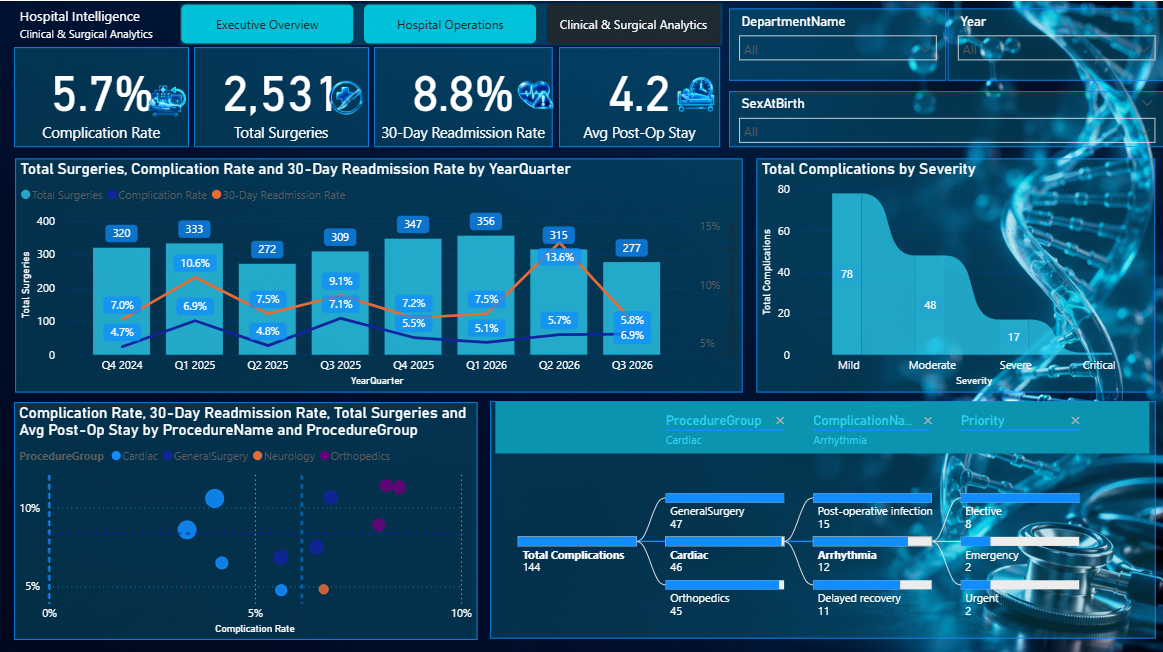

This screenshot's page, from the dashboard's own definition file:
{"tool":"powerbi","page":{"name":"Clinical & Surgical Analytics","canvas":[1280,720],"ordinal":2},"visuals":[{"type":"card","fields":{"Values":["bi FactSurgery.Complication Rate"]},"box":[16.5,50.8,192.1,109.8],"z":0},{"type":"card","fields":{"Values":["bi FactSurgery.Total Surgeries"]},"box":[214.1,50.8,192.1,109.8],"z":1000},{"type":"card","fields":{"Values":["bi FactSurgery.Avg Post-Op Stay"]},"box":[614.8,50.8,177,109.8],"z":2000},{"type":"card","fields":{"Values":["bi FactSurgicalAdmission.30-Day Readmission Rate"]},"box":[411.7,50.8,196.2,109.8],"z":3000},{"type":"pageNavigator","box":[199,2.7,595.5,45.3],"z":4000},{"type":"textbox","box":[17.8,1.4,275.8,49.4],"z":5000},{"type":"scatterChart","fields":{"Category":["bi DimProcedure.ProcedureName"],"X":["bi FactSurgery.Complication Rate"],"Y":["bi FactSurgicalAdmission.30-Day Readmission Rate"],"Size":["bi FactSurgery.Total Surgeries"],"Series":["bi DimProcedure.ProcedureGroup"]},"box":[16.5,440.5,509.1,260.7],"z":6000},{"type":"ribbonChart","fields":{"Category":["bi FactComplication.Severity"],"Y":["bi FactComplication.Total Complications"]},"box":[831.6,172.9,437.7,256.6],"z":7000},{"type":"lineClusteredColumnComboChart","fields":{"Category":["bi DimDate.YearQuarter"],"Y":["bi FactSurgery.Total Surgeries"],"Y2":["bi FactSurgery.Complication Rate","bi FactSurgicalAdmission.30-Day Readmission Rate"]},"box":[17.8,172.9,798.6,256.6],"z":8000},{"type":"decompositionTreeVisual","fields":{"Analyze":["bi FactComplication.Total Complications"],"ExplainBy":["bi DimProcedure.ProcedureGroup","bi FactComplication.ComplicationName","bi FactSurgery.Priority"]},"box":[539.3,439.1,730,260.7],"z":9000},{"type":"slicer","fields":{"Values":["bi DimDate.Year"]},"box":[1041.5,8.2,238.8,79.6],"z":10000},{"type":"slicer","fields":{"Values":["bi DimPatient.SexAtBirth"]},"box":[801.4,98.8,478.9,61.7],"z":11000},{"type":"slicer","fields":{"Values":["bi DimDepartment.DepartmentName"]},"box":[801.4,8.2,238.8,79.6],"z":12000},{"type":"image","box":[356.8,81,49.4,50.8],"z":13000},{"type":"image","box":[557.1,74.1,63.1,57.6],"z":14000},{"type":"image","box":[728.6,72.7,72.7,60.4],"z":15000},{"type":"image","box":[156.4,70,56.3,79.6],"z":16000}]}

Visuals, with their boxes in screenshot pixels (x1, y1, x2, y2), scaled from the page's 1280x720 canvas onto the 1163x652 screenshot:
card - bi FactSurgery.Complication Rate: [left=15, top=46, right=190, bottom=145]
card - bi FactSurgery.Total Surgeries: [left=195, top=46, right=369, bottom=145]
card - bi FactSurgery.Avg Post-Op Stay: [left=559, top=46, right=719, bottom=145]
card - bi FactSurgicalAdmission.30-Day Readmission Rate: [left=374, top=46, right=552, bottom=145]
pageNavigator: [left=181, top=2, right=722, bottom=43]
textbox: [left=16, top=1, right=267, bottom=46]
scatterChart - bi DimProcedure.ProcedureName x bi FactSurgery.Complication Rate: [left=15, top=399, right=478, bottom=635]
ribbonChart - bi FactComplication.Severity x bi FactComplication.Total Complications: [left=756, top=157, right=1153, bottom=389]
lineClusteredColumnComboChart - bi DimDate.YearQuarter x bi FactSurgery.Total Surgeries: [left=16, top=157, right=742, bottom=389]
decompositionTreeVisual - bi FactComplication.Total Complications x bi DimProcedure.ProcedureGroup: [left=490, top=398, right=1153, bottom=634]
slicer - bi DimDate.Year: [left=946, top=7, right=1162, bottom=80]
slicer - bi DimPatient.SexAtBirth: [left=728, top=89, right=1162, bottom=145]
slicer - bi DimDepartment.DepartmentName: [left=728, top=7, right=945, bottom=80]
image: [left=324, top=73, right=369, bottom=119]
image: [left=506, top=67, right=564, bottom=119]
image: [left=662, top=66, right=728, bottom=121]
image: [left=142, top=63, right=193, bottom=135]
